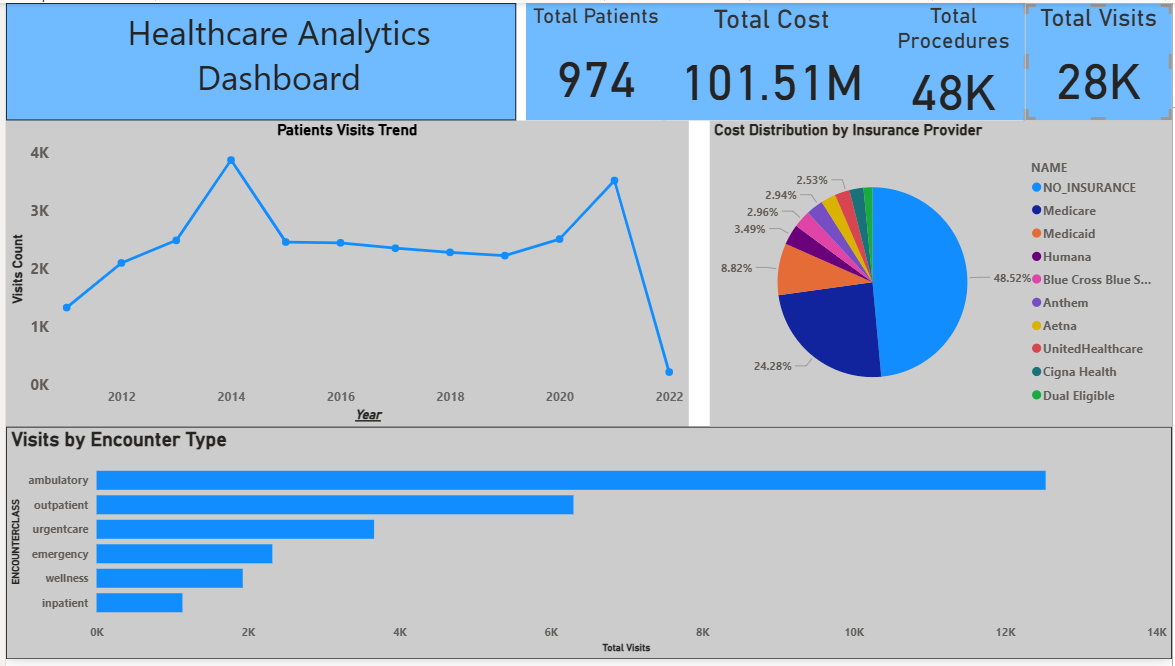

Layout of this report page (visuals, bound fields, positions):
{"tool":"powerbi","page":{"name":"Page 1","canvas":[1280,720],"ordinal":0},"visuals":[{"type":"card","title":"Total Patients","fields":{"Values":["encounters.total patients"]},"box":[570.8,0,153.7,129],"z":0},{"type":"card","title":"Total Cost","fields":{"Values":["encounters.total cost -"]},"box":[720.9,0,240.1,129],"z":1000},{"type":"card","title":"Total Procedures","fields":{"Values":["encounters.total procedures"]},"box":[957.4,0,164.7,129],"z":2000},{"type":"card","title":"Total Visits","fields":{"Values":["encounters.total visits"]},"box":[1118.1,0,161.9,129],"z":3000},{"type":"lineChart","title":"Patients Visits Trend","fields":{"Category":["encounters.START.Variation.Date Hierarchy.Year","encounters.START.Variation.Date Hierarchy.Quarter","encounters.START.Variation.Date Hierarchy.Month","encounters.START.Variation.Date Hierarchy.Day"],"Y":["encounters.total visits"]},"box":[0,129,749.2,336.2],"z":4000},{"type":"clusteredBarChart","title":" Visits by Encounter Type","fields":{"Category":["encounters.ENCOUNTERCLASS"],"Y":["encounters.total visits"]},"box":[0,465.2,1280.3,255.2],"z":5000},{"type":"pieChart","title":"Cost Distribution by Insurance Provider","fields":{"Category":["payers.NAME"],"Y":["encounters.total cost -"]},"box":[772.6,129,507.7,336.2],"z":6000},{"type":"textbox","box":[0,0,559.9,129],"z":6001}]}

Visuals, with their boxes in screenshot pixels (x1, y1, x2, y2), scaled from the page's 1280x720 canvas onto the 1175x666 screenshot:
"Total Patients" card: select_region(524, 0, 665, 119)
"Total Cost" card: select_region(662, 0, 882, 119)
"Total Procedures" card: select_region(879, 0, 1030, 119)
"Total Visits" card: select_region(1026, 0, 1174, 119)
"Patients Visits Trend" lineChart: select_region(0, 119, 688, 430)
" Visits by Encounter Type" clusteredBarChart: select_region(0, 430, 1174, 665)
"Cost Distribution by Insurance Provider" pieChart: select_region(709, 119, 1174, 430)
textbox: select_region(0, 0, 514, 119)
